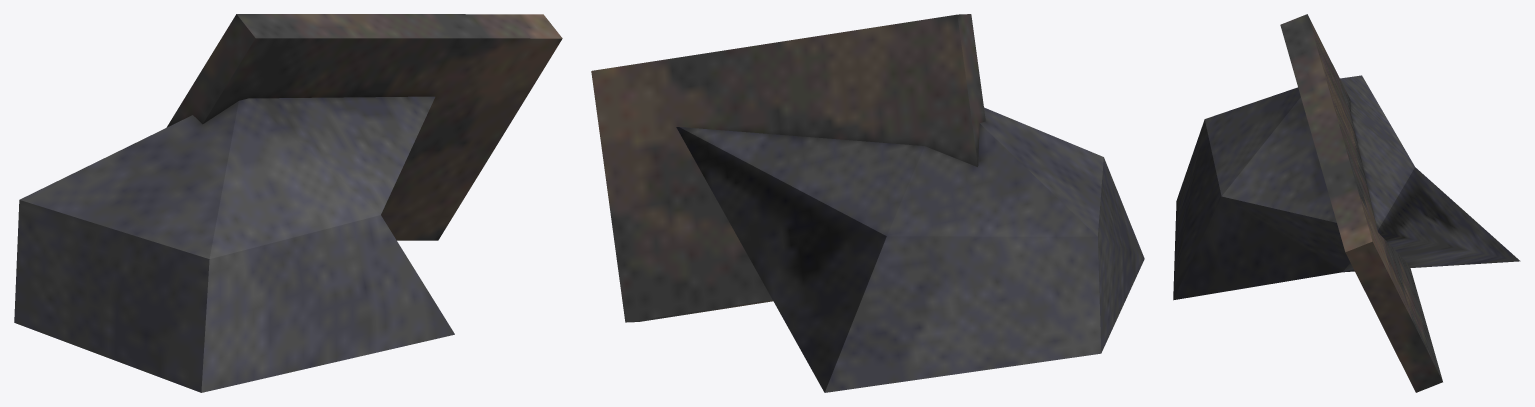
The model's file is SM_FX_Debris.fbx.
The picture shows the model from 3 angles, left to right: view 1: azimuth 30°, elevation 25°; view 2: azimuth 150°, elevation 25°; view 3: azimuth 270°, elevation 25°; orthographic projection. The views are drawn at different scales.
Visible parts, largest first — view 1: SM_FX_Debris; view 2: SM_FX_Debris; view 3: SM_FX_Debris.
Part boxes in pixels (bbox=[...]): SM_FX_Debris: bbox=[14, 14, 562, 392]; SM_FX_Debris: bbox=[591, 14, 1144, 392]; SM_FX_Debris: bbox=[1173, 14, 1520, 392].
Bounding box in the file's own units: 50.64 × 30.82 × 35.47.
Materials: 1 (1 with a texture image).
